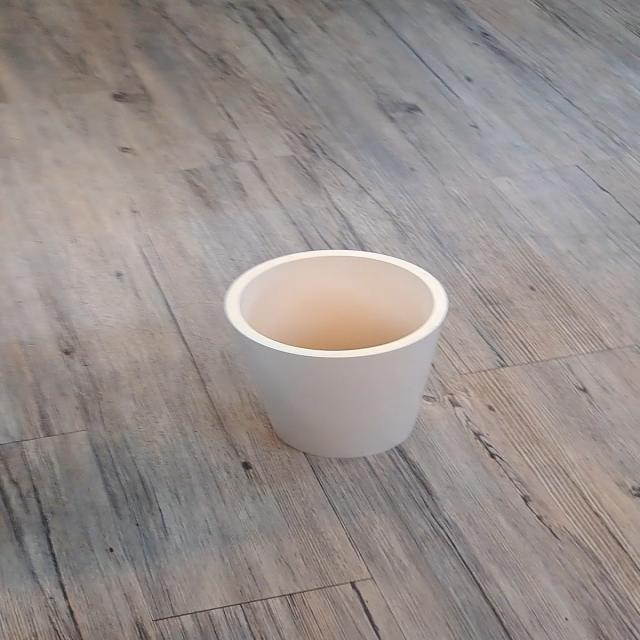CORAL: (199, 220, 487, 481)
